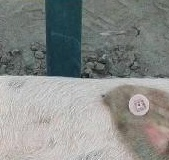text: (121, 87, 158, 122)
